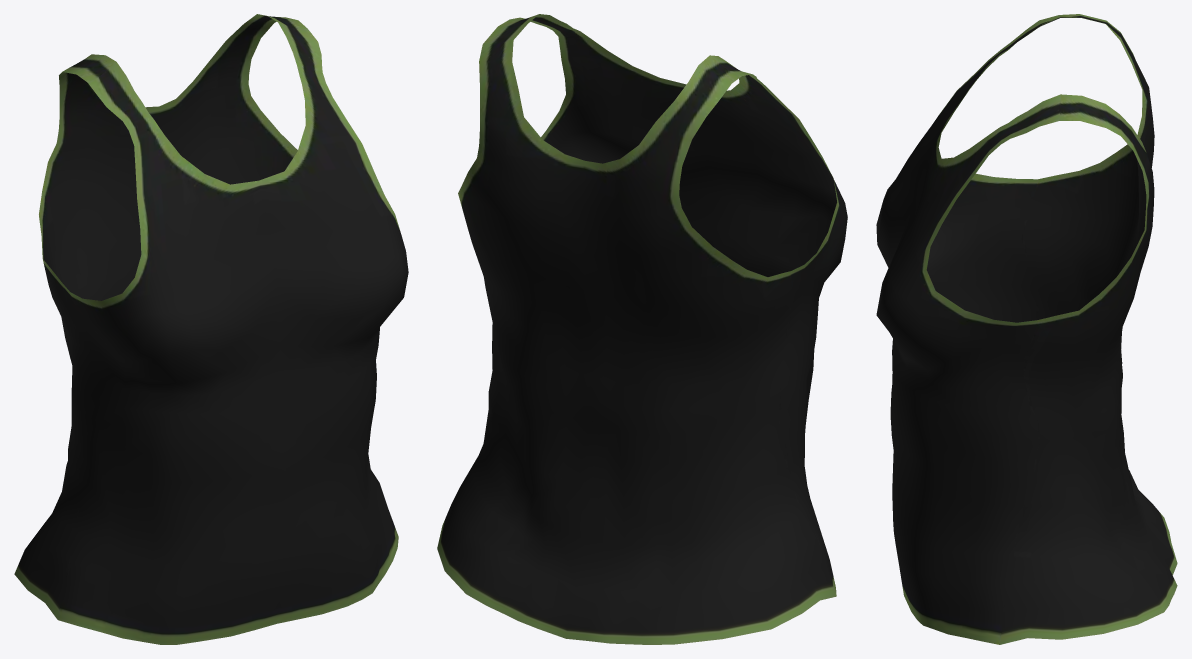
File: mindfront-tank-top-01.glb
The picture shows the model from 3 angles, left to right: view 1: azimuth 30°, elevation 25°; view 2: azimuth 150°, elevation 25°; view 3: azimuth 270°, elevation 25°; orthographic projection. The views are drawn at different scales.
Visible parts, largest first — view 1: Human.mindfront_tank_top_01; view 2: Human.mindfront_tank_top_01; view 3: Human.mindfront_tank_top_01.
Boxes of the visible parts, left/top/right/bottom form: Human.mindfront_tank_top_01: left=14, top=14, right=408, bottom=644; Human.mindfront_tank_top_01: left=437, top=14, right=847, bottom=644; Human.mindfront_tank_top_01: left=876, top=14, right=1177, bottom=644.
Bounding box in the file's own units: 0.3313 × 0.4914 × 0.2552.
1 material, 1 textured.
